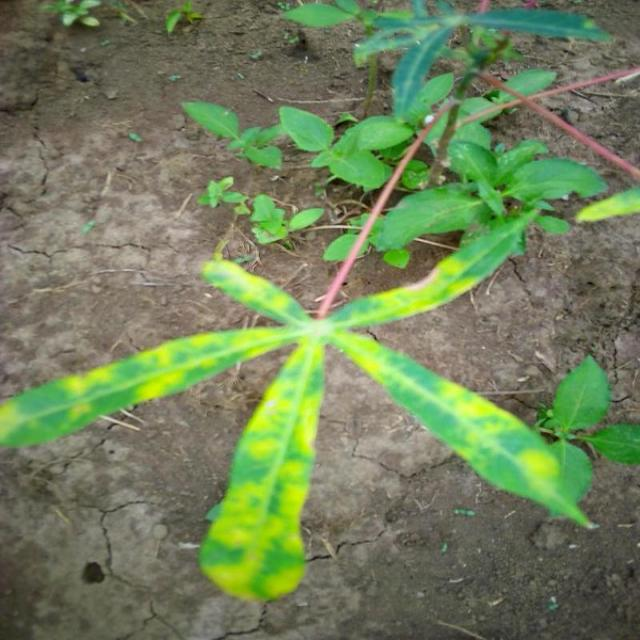cassava leaf: (2, 2, 634, 603)
